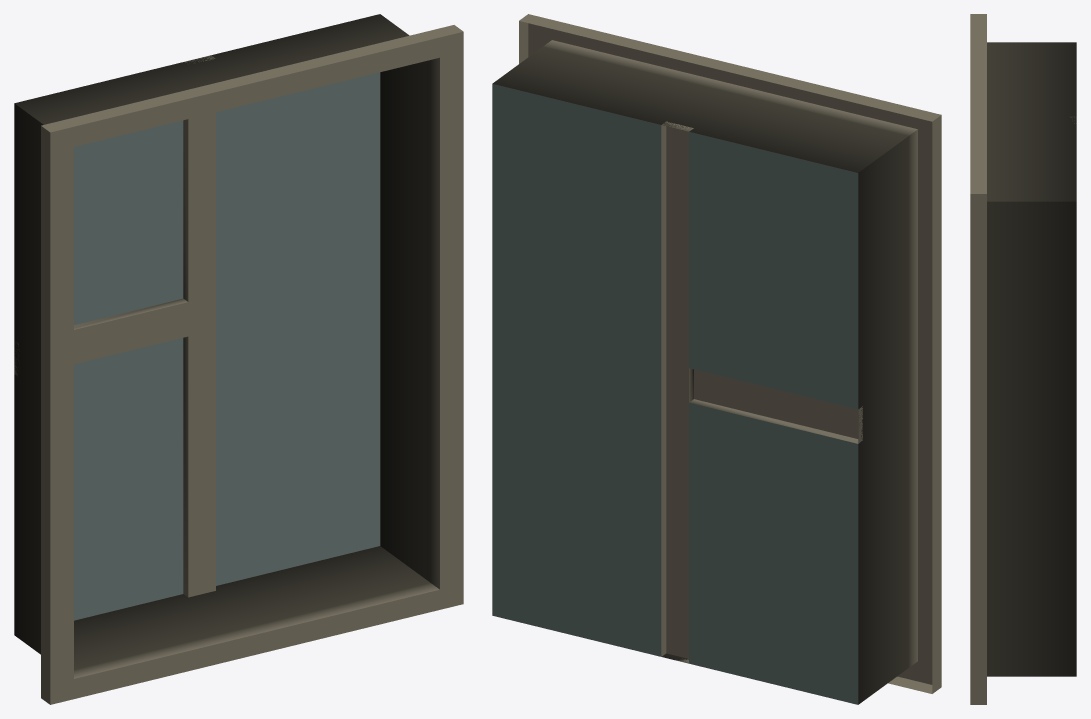
The model's file is Khrushchev's windows 1.fbx.
3 renders of one model, left to right at view 1: azimuth 30°, elevation 25°; view 2: azimuth 150°, elevation 25°; view 3: azimuth 270°, elevation 25°, orthographic. The views are drawn at different scales.
Visible parts, largest first — view 1: Starie Stekla; view 2: Starie Stekla; view 3: Starie Stekla.
Boxes of the visible parts, bbox=[...] form: Starie Stekla: bbox=[14, 14, 463, 704]; Starie Stekla: bbox=[492, 14, 941, 704]; Starie Stekla: bbox=[970, 14, 1076, 704].
Bounding box in the file's own units: 239 × 316 × 59.73.
